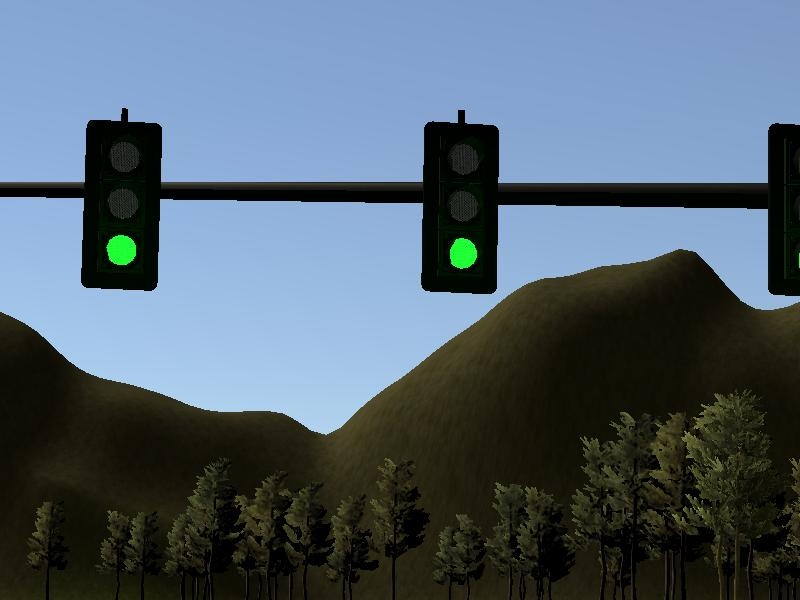GREEN: (420, 121, 499, 294), (83, 120, 160, 291)
